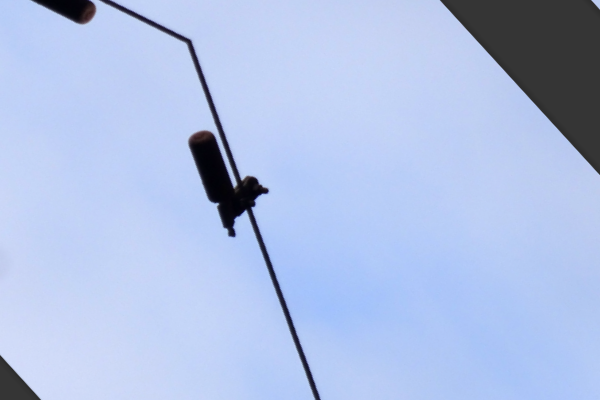damper_defect: (186, 125, 272, 240)
